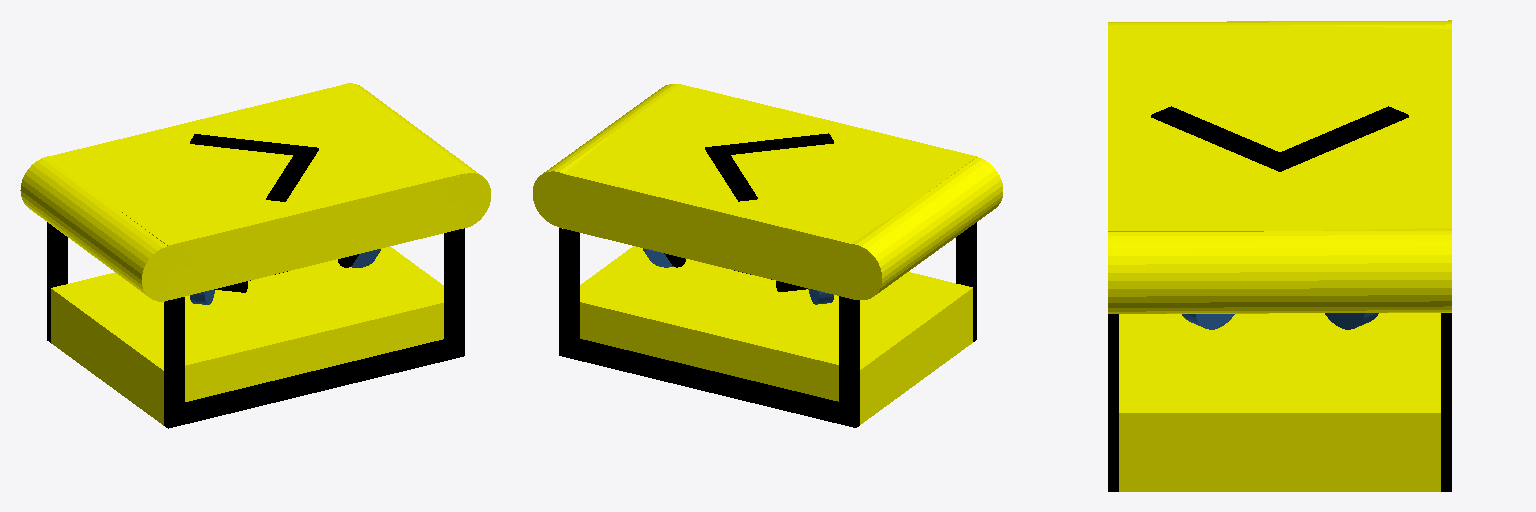
--- Render facts (derived) ---
3 views of the same robot in one strip: view 1: azimuth 30°, elevation 25°; view 2: azimuth 150°, elevation 25°; view 3: azimuth 270°, elevation 25° (orthographic).
Model bravo_toy_saab with 32 links and 31 joints (1 revolute, 30 fixed), rooted at new_base, posed all joints at 0.
Visible links, largest first — view 1: vehicle_base_link, bottom_body_link, rear_bumper, R_bar, front_bumper, B_R_bar, F_R_bar, B_L_bar, l_arrow, r_arrow; view 2: vehicle_base_link, bottom_body_link, rear_bumper, L_bar, front_bumper, F_L_bar, B_L_bar, B_R_bar, r_arrow, l_arrow; view 3: vehicle_base_link, bottom_body_link, front_bumper, l_arrow, r_arrow, F_L_bar, F_R_bar, rear_bumper, pf_fan, sf_fan.
Link boxes in pixels (x1,y1,x2,y2): vehicle_base_link: (53,86,464,299); bottom_body_link: (51,247,443,425); rear_bumper: (20,156,193,301); R_bar: (164,338,464,427); front_bumper: (340,83,490,227); B_R_bar: (164,297,184,428); F_R_bar: (444,228,464,359); B_L_bar: (47,222,67,324); l_arrow: (190,134,318,154); r_arrow: (266,149,318,201); vehicle_base_link: (559,84,976,299); bottom_body_link: (580,246,972,424); rear_bumper: (830,157,1002,299); L_bar: (562,339,859,427); front_bumper: (533,84,678,227); F_L_bar: (559,228,579,359); B_L_bar: (839,296,859,426); B_R_bar: (956,222,976,323); r_arrow: (712,133,833,154); l_arrow: (705,146,757,201); vehicle_base_link: (1108,25,1451,231); bottom_body_link: (1119,313,1440,491); front_bumper: (1108,228,1451,313); l_arrow: (1261,106,1408,171); r_arrow: (1151,106,1297,171); F_L_bar: (1441,313,1451,491); F_R_bar: (1108,314,1118,491); rear_bumper: (1108,20,1451,28); pf_fan: (1325,313,1378,329); sf_fan: (1182,314,1234,329).
Bounding box of the posed robot: 1 × 0.6007 × 0.505 m (x, y, z).
Geometry: only primitive shapes (box / cylinder / sphere) drawn; not drawn: 15 mesh visuals (reference in a form the renderer does not follow).

The robot description file, URDF, robot "bravo_toy_saab":
<?xml version="1.0" encoding="utf-8"?>
<!-- =================================================================================== -->
<!-- |    This document was autogenerated by xacro from test_reach5mini.urdf.xacro     | -->
<!-- |    EDITING THIS FILE BY HAND IS NOT RECOMMENDED                                 | -->
<!-- |    Unless you're Marcus Rosette or Hannah Kolano or Scott Chow  -->
<!-- =================================================================================== -->
<!-- when doing STL -> OBJ conversion, use this to keep origins: https://blender.stackexchange.com/questions/26451/how-to-move-a-complex-object-to-the-origin-without-destroying-it -->
<robot name="bravo_toy_saab">

  <link name="new_base"/>

  <joint name="planar_world" type="revolute">
    <parent link="new_base"/>
    <child link="vehicle_base_link"/>
    <axis xyz=" 0. 1. 0."/>
    <origin rpy="0 0 0" xyz="0 0 0"/>
  </joint>


  <!-- ======================================= -->
  <!-- - - - - - - - MATERIALS - - - - - - - - -->
  <!-- ======================================= -->
    <material name="bravo_black">
      <color rgba="0.3 0.3 0.3 1. "/>
    </material>
    <material name="bravo_finger_jaws_black">
      <color rgba="0.3 0.3 0.3 1. "/>
    </material>
    <material name="green_v">
      <color rgba="0.5 0.9 0.3 1"/>
    </material>
    <material name="black">
      <color rgba="0 0 0 1"/>
    </material>
    <material name="black_v">
      <color rgba="0 0 0 1"/>
    </material>
    <material name="blue_v">
      <color rgba="0.2 0.4 0.6 1"/>
    </material>
    <material name="orange_v">
      <color rgba="1 .4 0 1"/>
    </material>
    <material name="grey_v">
      <color rgba=".3 .3 .3 1"/>
    </material>
    <material name="red_v">
      <color rgba="1 0 0 1"/>
    </material>
    <material name="yellow_v">
      <color rgba="1 1 0 1"/>
    </material>


  <!-- ======================================= -->
  <!--             VEHICLE LINKS               -->
  <!-- ======================================= -->
  <link name="vehicle_base_link">
    <visual>
      <geometry>
        <box size="0.85 0.6 0.15"/>
      </geometry>
      <material name="yellow_v"/>
    </visual>
    <inertial>
      <mass value="30"/> 
      <origin xyz="0.0 0.0 -0.06"/>
      <inertia ixx="6.31" ixy="0.0" ixz="0.22" 
      iyy="10.15" iyz="0.0" 
      izz="3.93"/>
    </inertial>
  </link>

  <link name="bottom_body_link">
    <visual>
      <geometry>
        <box size="0.85 0.56 0.15"/>
      </geometry>
      <material name="yellow_v"/>
    </visual>
    <inertial>
      <mass value="30"/> 
      <origin xyz="0.0 0.0 -0.06"/>
      <inertia ixx="6.31" ixy="0.0" ixz="0.22" 
      iyy="10.15" iyz="0.0" 
      izz="3.93"/>
    </inertial>
  </link>
  <joint name="bottom_body_joint" type="fixed">
    <parent link="vehicle_base_link"/>
    <child link="bottom_body_link"/>
    <origin rpy="0 0 0" xyz="0 0 -.35"/>
  </joint>


<!-- IF YOU EVER ADD MORE LINKS, MAKE SURE TO CHANGE THE BUOYANCY FRAME VECTOR FOR THE ARM BASE FRAME!!! -->

<!-- ======= Bottom Frame ======= -->
  <link name="F_R_bar">
    <visual>
      <geometry>
        <box size = "0.35 0.02 0.05"/>
      </geometry>
      <material name="black_v"/>
    </visual>
  </link>
    <joint name="FRBarJoint" type="fixed">
      <parent link="vehicle_base_link"/>
      <child link="F_R_bar"/>
      <origin rpy="0 1.57075 0" xyz="0.4 -.29 -.25"/>
    </joint>
  <link name="F_L_bar">
    <visual>
      <geometry>
        <box size = "0.35 0.02 0.05"/>
      </geometry>
      <material name="black_v"/>
    </visual>
  </link>
    <joint name="FLBarJoint" type="fixed">
      <parent link="vehicle_base_link"/>
      <child link="F_L_bar"/>
      <origin rpy="0 1.57075 0" xyz="0.4 .29 -.25"/>
    </joint>
  <link name="B_L_bar">
      <visual>
        <geometry>
          <box size = "0.35 0.02 0.05"/>
        </geometry>
        <material name="black_v"/>
      </visual>
  </link>
    <joint name="BLBarJoint" type="fixed">
      <parent link="vehicle_base_link"/>
      <child link="B_L_bar"/>
      <origin rpy="0 1.57075 0" xyz="-0.4 .29 -.25"/>
    </joint>
  <link name="B_R_bar">
    <visual>
      <geometry>
        <box size = "0.35 0.02 0.05"/>
      </geometry>
      <material name="black_v"/>
    </visual>
  </link>
    <joint name="BRBarJoint" type="fixed">
      <parent link="vehicle_base_link"/>
      <child link="B_R_bar"/>
      <origin rpy="0 1.57075 0" xyz="-0.4 -.29 -.25"/>
    </joint>
  <link name="R_bar">
    <visual>
      <geometry>
        <box size = "0.85 0.02 0.05"/>
      </geometry>
      <material name="black_v"/>
    </visual>
  </link>
    <joint name="RBarJoint" type="fixed">
      <parent link="vehicle_base_link"/>
      <child link="R_bar"/>
      <origin rpy="0 0 0" xyz="0 -.29 -.4"/>
    </joint>
  <link name="L_bar">
    <visual>
      <geometry>
        <box size = "0.85 0.02 0.05"/>
      </geometry>
      <material name="black_v"/>
    </visual>
  </link>
    <joint name="LBarJoint" type="fixed">
      <parent link="vehicle_base_link"/>
      <child link="L_bar"/>
      <origin rpy="0 0 0" xyz="0 .29 -.4"/>
    </joint>

<!-- ======= Front/Back Bumpers ======= -->
  <link name="front_bumper">
    <visual>
      <geometry>
        <cylinder length="0.6" radius="0.075"/>
      </geometry>
      <material name="yellow_v"/>
     </visual>
  </link>
    <joint name="fbump_link" type="fixed">
      <parent link="vehicle_base_link"/>
      <child link="front_bumper"/>
      <origin rpy="1.57579632679 0 0" xyz="0.425 0 0"/>
    </joint>
  <link name="rear_bumper">
      <visual>
        <geometry>
          <cylinder length="0.6" radius="0.075"/>
        </geometry>
        <material name="yellow_v"/>
      </visual>
  </link>
    <joint name="rbump_link" type="fixed">
      <parent link="vehicle_base_link"/>
      <child link="rear_bumper"/>
      <origin rpy="1.57579632679 0 0" xyz="-0.425 0 0"/>
    </joint>

<!-- ======= Front Arrow ======= -->
  <link name="l_arrow">
    <visual>
      <geometry>
        <box size="0.05 0.318 0.01"/>
      </geometry>
      <material name="black_v"/>
    </visual>
  </link>
    <joint name="l_arrow_link" type="fixed">
      <parent link="vehicle_base_link"/>
      <child link="l_arrow"/>
      <origin rpy="0 0 0.787898163397" xyz="0.05 0.095 0.075"/>
    </joint>
  <link name="r_arrow">
    <visual>
      <geometry>
        <box size="0.05 0.318 0.01"/>
      </geometry>
      <material name="black_v"/>
    </visual>
  </link>
    <joint name="r_arrow_link" type="fixed">
      <parent link="vehicle_base_link"/>
      <child link="r_arrow"/>
      <origin rpy="0 0 -0.787898163397" xyz="0.05 -0.095 0.075"/>
    </joint>

<!-- ======= Thrusters ======= -->
  <link name="sf_fan">
    <visual>
      <geometry>
        <cylinder length="0.04" radius="0.06"/>
      </geometry>
      <material name="blue_v"/>
    </visual>
  </link>
    <joint name="base_to_sf_fan" type="fixed">
      <parent link="vehicle_base_link"/>
      <child link="sf_fan"/>
      <origin rpy="0 1.57579632679 0.785" xyz="0.22 -0.12 -0.14"/>
    </joint>
  <link name="sf_thruster">
    <visual>
      <geometry>
        <cylinder length="0.1" radius="0.02"/>
      </geometry>
      <material name="black_v"/>
    </visual>
  </link>
    <joint name="sf_fan_thruster_joint" type="fixed">
      <parent link="sf_fan"/>
      <child link="sf_thruster"/>
      <origin xyz="0 0 -0.06"/>
    </joint>
  <link name="pf_fan">
    <visual>
      <geometry>
        <cylinder length="0.04" radius="0.06"/>
      </geometry>
      <material name="blue_v"/>
    </visual>
  </link>
    <joint name="base_to_pf_fan" type="fixed">
      <parent link="vehicle_base_link"/>
      <child link="pf_fan"/>
      <origin rpy="0 1.57579632679 -0.785" xyz="0.22 0.12 -0.14"/>
    </joint>
  <link name="pf_thruster">
    <visual>
      <geometry>
        <cylinder length="0.1" radius="0.02"/>
      </geometry>
      <material name="black_v"/>
    </visual>
  </link>
    <joint name="pf_fan_thruster_joint" type="fixed">
      <parent link="pf_fan"/>
      <child link="pf_thruster"/>
      <origin xyz="0 0 -0.06"/>
    </joint>
  <link name="sa_fan">
    <visual>
      <geometry>
        <cylinder length="0.04" radius="0.06"/>
      </geometry>
      <material name="blue_v"/>
    </visual>
  </link>
    <joint name="base_to_sa_fan" type="fixed">
      <parent link="vehicle_base_link"/>
      <child link="sa_fan"/>
      <origin rpy="0 -1.57579632679 -0.785" xyz="-0.22 -0.12 -0.14"/>
    </joint>
  <link name="sa_thruster">
    <visual>
      <geometry>
        <cylinder length="0.1" radius="0.02"/>
      </geometry>
      <material name="black_v"/>
    </visual>
  </link>
    <joint name="sa_fan_thruster_joint" type="fixed">
      <parent link="sa_fan"/>
      <child link="sa_thruster"/>
      <origin xyz="0 0 -0.06"/>
    </joint>
  <link name="pa_fan">
    <visual>
      <geometry>
        <cylinder length="0.04" radius="0.06"/>
      </geometry>
      <material name="blue_v"/>
    </visual>
  </link>
    <joint name="base_to_pa_fan" type="fixed">
      <parent link="vehicle_base_link"/>
      <child link="pa_fan"/>
      <origin rpy="0 -1.57579632679 0.785" xyz="-0.22 0.12 -0.14"/>
    </joint>
  <link name="pa_thruster">
    <visual>
      <geometry>
        <cylinder length="0.1" radius="0.02"/>
      </geometry>
      <material name="black_v"/>
    </visual>
  </link>
    <joint name="pa_fan_thruster_joint" type="fixed">
      <parent link="pa_fan"/>
      <child link="pa_thruster"/>
      <origin xyz="0 0 -0.06"/>
    </joint>

  <link name="seabotix_bottle">
    <visual>
      <geometry>
        <cylinder length="0.26" radius="0.05"/>
      </geometry>
      <material name="black_v"/>
    </visual>
  </link>
    <joint name="sbottle_link" type="fixed">
      <parent link="vehicle_base_link"/>
      <child link="seabotix_bottle"/>
      <origin rpy="0 1.57579632679 0" xyz="-0.05 0 -0.18"/>
    </joint>


<!-- ======================================= -->
<!--               BRAVO LINKS               -->
<!-- ======================================= -->
  <joint name="bravo_joint" type="fixed">
    <origin rpy="1.57079 0 0" xyz=".425 0 -.39"/>    <!-- Old rpy="0 0 0" xyz=".325 0 -.09" ________________________________________________________________-->
    <parent link="vehicle_base_link"/>
    <child link="bravo_base_link"/>
  </joint>

  <link name="bravo_base_link">
    <inertial>
      <!-- <mass value="1.25"/> --> <!-- weight in air -->
      <mass value="0.53216"/> <!-- buoyancy balanced weight. calc from buoyancy_setup.jl -->
      <origin xyz="-0.075 -0.006 -0.003"/>
      <inertia ixx="0.002108" ixy="0.00018199999999999998" ixz="-1.4999999999999999e-05" iyy="0.0025729999999999998" iyz="-2.1e-05" izz="0.003483"/>
    </inertial>
    <visual>
      <geometry>
        <mesh filename="[local-path]/OneDrive/Documents/GitHub/onr_compliance_julia/meshes/RS2-1019_base.obj"/>
      </geometry>
      <material name="bravo_black"/>
      <origin rpy="0.0 -0.0 0.0" xyz="0.0 0.0 0.0"/>
    </visual>
    <collision>
      <geometry>
        <box size="0.0725 0.1112 0.083 "/>
      </geometry>
      <origin rpy="0.0 0.0 0.0" xyz="0.03625 0.0 0.0415"/>
    </collision>
    <collision>
      <geometry>
        <box size="0.05 0.08 0.06"/>
      </geometry>
      <origin rpy="0.0 0.0 0.0" xyz="0.025 -0.04556 0.03"/>
    </collision>
    <collision>
      <geometry>
        <cylinder length="0.083" radius="0.046"/>
      </geometry>
      <origin rpy="0.0 0.0 0.0" xyz="0.0665 0.0 0.0415"/>
    </collision>
  </link>

  <!-- Changed bravo_axis_g to fixed -->
  <joint name="bravo_axis_g" type="fixed">  
    <dynamics damping="10.0" friction="0.0"/>
    <limit effort="500.0" lower="0.0" upper="6.2" velocity="3.0"/>
    <parent link="bravo_base_link"/>
    <child link="bravo_1019_end_link"/>
    <axis xyz=" 0. -1. 0."/>
    <origin rpy="0.0 0.0 3.14159" xyz="0.0665 0.08 0.0"/> <!-- Old: rpy="0.0 0.0 3.14159" xyz="0.0665 0.0 0.08"/>___________________________________________________-->
  </joint>

  <link name="bravo_1019_end_link">
    <inertial>
      <!-- <mass value="1.55"/> --> <!-- weight in air -->
      <mass value="0.95180"/> <!-- buoyancy balanced weight. calc from buoyancy_setup.jl -->
      <inertia ixx="0.011441999999999999" ixy="-0.000484" ixz="0.003405" iyy="0.01298" iyz="-0.0012649999999999998" izz="0.003202"/>
      <origin xyz="0.005 -0.001 0.016"/>
    </inertial>
    <visual>
      <geometry>
        <mesh filename="[local-path]/OneDrive/Documents/GitHub/onr_compliance_julia/meshes/RS2-1019_end.obj"/>
      </geometry>
      <material name="bravo_black"/>
      <origin rpy="0.0 -0.0 0.0" xyz="0.0 0.0 0.0"/>
    </visual>
    <visual>
      <geometry>
        <mesh filename="[local-path]/OneDrive/Documents/GitHub/onr_compliance_julia/meshes/RS2-1013_base.obj"/>
      </geometry>
      <material name="bravo_black"/>
      <origin rpy="0.0 -0.0 3.1415" xyz="0.0 0.0 0.0"/>    <!-- Old rpy="0 0 0" ________________________________________________________________-->
    </visual>
    <collision>
      <geometry>
        <mesh filename="[local-path]/OneDrive/Documents/GitHub/onr_compliance_julia/meshes/RS2-1019_end.obj"/>
      </geometry>
      <origin rpy="0.0 -0.0 0.0" xyz="0.0 0.0 0.0"/>
    </collision>
    <collision>
      <geometry>
        <cylinder length="0.03" radius="0.046"/>
      </geometry>
      <origin rpy="0.0 -0.0 0.0" xyz="0.0 0.0 0.015"/>
    </collision>
    <collision>
      <geometry>
        <cylinder length="0.1" radius="0.046"/>
      </geometry>
      <origin rpy="1.5707 -0.0 0.0" xyz="0.048 0.0 0.0642"/>
    </collision>
  </link>

  <joint name="bravo_axis_f" type="fixed"> <!-- used to be revolute-->
    <dynamics damping="10.0" friction="0.0"/>
    <limit effort="500.0" lower="0.0" upper="3.14" velocity="3.0"/>
    <parent link="bravo_1019_end_link"/>
    <child link="bravo_1013_joint_link"/>
    <axis xyz=" 0. 0. -1."/>
    <origin rpy="0.0 -0.0 -3.14159" xyz="-0.046 -0.0642 0"/> <!-- Old: rpy="0.0 -0.0 0.0" xyz="0.046 0.0 0.0642"/>______________________________________________________________________________-->
  </joint>

  <link name="bravo_1013_joint_link">
    <inertial>
      <!-- <mass value="1.14"/> --> <!-- weight in air -->
      <mass value="0.67141"/> <!-- buoyancy balanced weight. calc from buoyancy_setup.jl -->
      <origin xyz="0.022 -0.029 0.001"/>
      <inertia ixx="0.0032129999999999997" ixy="-0.001548" ixz="-3.1e-05" iyy="0.002327" iyz="6e-06" izz="0.00434"/>
    </inertial>
    <visual>
      <geometry>
        <mesh filename="[local-path]/OneDrive/Documents/GitHub/onr_compliance_julia/meshes/RS2-1013_end.obj"/>
      </geometry>
      <material name="bravo_black"/>
      <origin rpy="0.0 -0.0 0.0" xyz="0.0 0.0 0.0"/>
    </visual>
    <visual>
      <geometry>
        <mesh filename="[local-path]/OneDrive/Documents/GitHub/onr_compliance_julia/meshes/RS2-1026_0_base.obj"/>
      </geometry>
      <material name="bravo_black"/>
      <origin rpy="0.0 -0.0 3.14159" xyz="0.04600000000128156 -0.23255 0"/> <!--Old: rpy="3.14159 -0.0 3.14159" xyz="0.04600000000128156 4.829533423884964e-07 -0.2325499999993592"/>-->
    </visual>
    <visual>
      <geometry>
        <mesh filename="[local-path]/OneDrive/Documents/GitHub/onr_compliance_julia/meshes/RS2-1030.obj"/>
      </geometry>
      <material name="bravo_black"/>
      <origin rpy="3.14159 -0.0 0" xyz="0.046 -0.05055 0"/> <!--Old: rpy="3.14159 -0.0 3.14159" xyz="0.046 0.0 -0.05055"/>__________________________________________________________-->
    </visual>
    <collision>
      <geometry>
        <cylinder length="0.03" radius="0.046"/>
      </geometry>
      <origin rpy="0.0 0.0 0.0" xyz="0.046 0.0 -0.03555"/>
    </collision>
    <collision>
      <geometry>
        <cylinder length="0.03" radius="0.0408"/>
      </geometry>
      <origin rpy="3.14159 -0.0 3.14159" xyz="0.04600000000138718 5.227571892886473e-07 -0.24754999999930644"/>
    </collision>
    <collision>
      <geometry>
        <cylinder length="0.0816" radius="0.0408"/>
      </geometry>
      <origin rpy="-1.5708953071795866 -0.0 3.14159" xyz="0.005200000001832204 7.445972960125356e-07 -0.29034999999915573"/>
    </collision>
    <collision>
      <geometry>
        <cylinder length="0.03033333" radius="0.046"/>
      </geometry>
      <origin rpy="3.14159 -0.0 3.14159" xyz="0.046000000000106796 4.0246094175109416e-08 -0.0657166599999466"/>
    </collision>
    <collision>
      <geometry>
        <cylinder length="0.03033333" radius="0.045"/>
      </geometry>
      <origin rpy="3.14159 -0.0 3.14159" xyz="0.04600000000032039 1.207383355971241e-07 -0.0960499999998398"/>
    </collision>
    <collision>
      <geometry>
        <cylinder length="0.03033333" radius="0.044"/>
      </geometry>
      <origin rpy="3.14159 -0.0 3.14159" xyz="0.04600000000053398 2.0123055844401027e-07 -0.126383332999733"/>
    </collision>
    <collision>
      <geometry>
        <cylinder length="0.03033333" radius="0.043"/>
      </geometry>
      <origin rpy="3.14159 -0.0 3.14159" xyz="0.046000000000747575 2.817227828830503e-07 -0.15671666659962621"/>
    </collision>
    <collision>
      <geometry>
        <cylinder length="0.03033333" radius="0.042"/>
      </geometry>
      <origin rpy="3.14159 -0.0 3.14159" xyz="0.04600000000096117 3.6221500679137236e-07 -0.18704999999951943"/>
    </collision>
    <collision>
      <geometry>
        <cylinder length="0.03033333" radius="0.041"/>
      </geometry>
      <origin rpy="3.14159 -0.0 3.14159" xyz="0.04600000000117476 4.427071420697953e-07 -0.21738329999941264"/>
    </collision>
  </link>

  <joint name="bravo_axis_e" type="fixed"> <!-- used to be revolute-->
    <dynamics damping="10.0" friction="0.0"/>
    <limit effort="500.0" lower="0.0" upper="3.14" velocity="3.0"/>
    <parent link="bravo_1013_joint_link"/>
    <child link="bravo_1026_0_joint_link"/>
    <axis xyz=" 0. 0. 1."/>
    <origin rpy="0 0 0" xyz="0.0040000000018364235 -0.29034 0"/> <!-- Old: rpy="3.14159 -0.0 3.14159" xyz="0.0040000000018364235 7.477816037645589e-07 -0.29034999999915573"/>_____________________________________-->
  </joint>

  <link name="bravo_1026_0_joint_link">
    <inertial>
      <origin rpy="0.0 -0.0 0.0" xyz="0.018 0.006 -0.117"/>  <!-- Old: rpy="0.0 -0.0 0.0" xyz="0.017 -0.026 -0.002"_____________________________________-->
      <!-- <mass value="1.14"/> --> <!-- weight in air -->
      <mass value="0.63153"/> <!-- buoyancy balanced weight. calc from buoyancy_setup.jl -->
      <inertia ixx="0.021231999999999997" ixy="0.00033" ixz="-0.003738" iyy="0.022251999999999997" iyz="-0.0012779999999999998" izz="0.002054"/>
    </inertial>
    <visual>
      <geometry>
        <mesh filename="[local-path]/OneDrive/Documents/GitHub/onr_compliance_julia/meshes/RS2-1026_0_end.obj"/>
      </geometry>
      <material name="bravo_black"/>
      <origin rpy="0.0 -0.0 0.0" xyz="0.0 0.0 0.0"/>
    </visual>
    <collision>
      <geometry>
        <cylinder length="0.08" radius="0.0408"/>
      </geometry>
      <origin rpy="0.0 0.0 0.0" xyz="0.0408 0.0 -0.05385"/>
    </collision>
  </link>

  <!-- Changed bravo_axis_d to fixed -->
  <joint name="bravo_axis_d" type="fixed">
    <dynamics damping="10.0" friction="0.0"/>
    <limit effort="500.0" lower="0.0" upper="6.2" velocity="3.0"/>
    <parent link="bravo_1026_0_joint_link"/>
    <child link="bravo_1026_1_joint_link"/>
    <axis xyz=" 0.  0. -1."/>
    <origin rpy="3.14159 0.0 0.0" xyz="0.0408 -0.09434999999999824 0.001"/> <!-- Old: rpy="3.14159 -0.0 0.0" xyz="0.0408 -1.326794896676365e-09 -0.09434999999999824"/>____________________SEEMS TO BE PART OF THE PROBLEM OF MISSALIGNMENT__-->
  </joint>

  <link name="bravo_1026_1_joint_link">
    <inertial>
      <!-- <mass value="1.03"/> --> <!-- weight in air -->
      <mass value="0.60129"/> <!-- buoyancy balanced weight. calc from buoyancy_setup.jl -->
      <origin xyz="0.020 -0.024 0.001"/>
      <inertia ixx="0.00243" ixy="-0.001144" ixz="-3.9999999999999996e-05" iyy="0.002026" iyz="1.1e-05" izz="0.00333"/>
    </inertial>
    <visual>
      <geometry>
        <mesh filename="[local-path]/OneDrive/Documents/GitHub/onr_compliance_julia/meshes/RS2-1026_1_end.obj"/>
      </geometry>
      <material name="bravo_black"/>
      <origin rpy="0.0 3.14159 0" xyz="0.0 0.0 0.0056"/> <!-- Old: rpy="0.0 0.0 3.14159" xyz="0.0 0.0 0.0"/>_________________________________________________________________-->
    </visual>
    <visual>
      <geometry>
        <mesh filename="[local-path]/OneDrive/Documents/GitHub/onr_compliance_julia/meshes/RS2-1023_0_base.obj"/>
      </geometry>
      <material name="bravo_black"/>
      <origin rpy="0.0 3.14159 0.0" xyz="0.0 0.0 0.0056"/> <!-- Old: rpy="0.0 -0.0 3.14159" xyz="0.0 0.0 0.0056"/>___________________________________________________________-->
    </visual>
    <collision>
      <geometry>
        <cylinder length="0.0056" radius="0.0408"/>
      </geometry>
      <origin rpy="0.0 0.0 3.14159" xyz="0.0 0.0 0.0028"/>
    </collision>
    <collision>
      <geometry>
        <cylinder length="0.03" radius="0.0408"/>
      </geometry>
      <origin rpy="0.0 -0.0 3.14159" xyz="0.0 0.0 0.0206"/>
    </collision>
    <collision>
      <geometry>
        <cylinder length="0.0816" radius="0.0408"/>
      </geometry>
      <origin rpy="1.5707 -0.0 3.14159" xyz="-0.040799999999856354 1.082664635687914e-07 0.0634"/>
    </collision>
  </link>

  <joint name="bravo_axis_c" type="fixed"> <!-- used to be revolute-->
    <dynamics damping="10.0" friction="0.0"/>
    <limit effort="500.0" lower="0.0" upper="3.2" velocity="3.0"/>
    <parent link="bravo_1026_1_joint_link"/>
    <child link="bravo_1023_0_joint_link"/>
    <axis xyz=" 0. 0. -1."/>
    <origin rpy="0.0 3.14159 -1.57" xyz="-0.041999999999852135 0.058 0.005"/> <!-- Old: rpy="0.0 -0.0 3.14159" xyz="-0.041999999999852135 1.1145077132081467e-07 0.0634"/>______________________-->
  </joint>

  <link name="bravo_1023_0_joint_link">
    <inertial>
      <origin rpy="0.0 -0.0 0.0" xyz="0.0 0.003 -0.098"/>  <!-- Old: rpy="0.0 -0.0 0.0" xyz="0.0 0.003 -0.098"/>______________________-->
      <!-- <mass value="0.333"/> --> <!-- This was the original... not sure where it comes from. Is different than bravo manual-->
      <!-- Using mass properties from Bravo KD Properties manual -->
      <mass value="0.04820"/> <!-- buoyancy balanced weight. calc from buoyancy_setup.jl -->
      <inertia ixx="0.003709" ixy="-2e-06" ixz="-4e-06" iyy="0.003734" iyz="0.0" izz="7.9e-05"/>
    </inertial>
    <visual>
      <geometry>
        <mesh filename="[local-path]/OneDrive/Documents/GitHub/onr_compliance_julia/meshes/RS2-1023_0_end.obj"/>
      </geometry>
      <material name="bravo_black"/>
      <origin rpy="0.0 -0.0 0.0" xyz="0.0 0.0 0.0"/>
    </visual>
    <collision>
      <geometry>
        <cylinder length="0.08" radius="0.0408"/>
      </geometry>
      <origin rpy="0.0 0.0 0.0" xyz="0.0408 0.0 -0.05385"/>
    </collision>
  </link>

  <!-- Changed bravo_axis_b to fixed -->
  <joint name="bravo_axis_b" type="fixed">
    <dynamics damping="10.0" friction="0.0"/>
    <limit effort="500.0" lower="0.0" upper="6.2" velocity="3.0"/>
    <parent link="bravo_1023_0_joint_link"/>
    <child link="bravo_1023_1_joint_link"/>
    <axis xyz=" 0.  0. -1."/>
    <origin rpy="3.14159 -0.0 0" xyz="0.0408 -0.09434999999999824 0"/> <!-- Old: rpy="3.14159 -0.0 0.6" xyz="0.0408 -1.326794896676365e-09 -0.09434999999999824"/>____________________________-->
  </joint>

  <link name="bravo_1023_1_joint_link">
    <inertial>
      <origin xyz="0.0 0.003 -0.098"/>
      <mass value="1.04"/>
      <!-- <mass value="1.04"/> --> <!-- weight in air -->
      <mass value="0.56144"/> <!-- buoyancy balanced weight. calc from buoyancy_setup.jl -->
      <inertia ixx="0.022359" ixy="1e-06" ixz="-1.8999999999999998e-05" iyy="0.022362999999999997" iyz="1.4999999999999999e-05" izz="0.000936"/>
    </inertial>
    <visual>
      <geometry>
        <mesh filename="[local-path]/OneDrive/Documents/GitHub/onr_compliance_julia/meshes/RS2-1023_1_end.obj"/>
      </geometry>
      <material name="bravo_black"/>
      <origin rpy="0.0 -0.0 0.0" xyz="0.0 0.0 0.0"/>
    </visual>
    <visual>
      <geometry>
        <mesh filename="[local-path]/OneDrive/Documents/GitHub/onr_compliance_julia/meshes/RS2-1028.obj"/>
      </geometry>
      <material name="bravo_black"/>
      <origin rpy="0.0 -0.0 0.0" xyz="0.0 0.0056 0.0"/> <!-- Old: rpy="0.0 -0.0 0.0" xyz="0.0 0.0 0.0056"/>_______________________________________________________________________-->
    </visual>
    <visual>
      <geometry>
        <mesh filename="[local-path]/OneDrive/Documents/GitHub/onr_compliance_julia/meshes/end_effectors/RS2-257.obj"/>
      </geometry>
      <material name="bravo_finger_jaws_black"/>
      <origin rpy="3.14159 0 1.57" xyz="0.0 0.1256 0"/> <!-- Old: rpy="-1.5707 -1.5706999999997038 0.0" xyz="0.0 0.0 0.1256"/>____________________________________________________-->
    </visual>
    <collision>
      <geometry>
        <cylinder length="0.0056" radius="0.0408"/>
      </geometry>
      <origin rpy="0.0 0.0 0.0" xyz="0.0 0.0 0.0028"/>
    </collision>
    <collision>
      <geometry>
        <cylinder length="0.12" radius="0.0408"/>
      </geometry>
      <origin rpy="0.0 -0.0 0.0" xyz="0.0 0.0 0.06559999999999999"/>
    </collision>
    <collision>
      <geometry>
        <cylinder length="0.02" radius="0.05"/>
      </geometry>
      <origin rpy="-9.632679489654805e-05 -9.631751559834678e-05 -1.5706999907215955" xyz="9.632679474766714e-07 0.0 0.13559999995360572"/>
    </collision>
  </link>

  <!-- <joint name="bravo_axis_a" type="fixed">
    <dynamics damping="10.0" friction="0.0"/>
    <limit effort="1000.0" lower="0.0" upper="0.035" velocity="10.0"/>
    <parent link="bravo_1023_1_joint_link"/>
    <child link="bravo_push_rod"/>
    <axis xyz="0. 0. 1."/>
    <origin rpy="-1.5707 -1.5706999999997038 0.0" xyz="-8.669411487068951e-07 0.008999999958245167 0.12560000008350966"/>
  </joint>

  <link name="bravo_push_rod">
    <inertial>
      <origin rpy="0.0 -0.0 0.0" xyz="0.0 0.0 0.0"/>
      <mass value="0.1"/>
      <inertia ixx="0.0001" ixy="0.0" ixz="0.0" iyy="0.0001" iyz="0.0" izz="0.0001"/>
    </inertial>
  </link> -->

  <joint name="bravo_finger_jaws_rs2_300_joint" type="fixed">
    <!-- Changed joint type to "fixed" to eliminate looping through another dimension -->
    <limit effort="400.0" lower="0.0" upper="1.0" velocity="3.0"/>
    <mimic joint="bravo_axis_a" multiplier="18.0" offset="0.0"/>
    <parent link="bravo_1023_1_joint_link"/>
    <child link="bravo_finger_jaws_rs2_300_link"/>
    <axis xyz=" 0.  0. -1."/>
    <origin rpy="0 3.14159 -1.5707" xyz="0 0.13529682117078565 -0.033"/> <!-- Old: rpy="-1.5707 -1.5706999999997038 0.0" xyz="-0.032999065323888854 -3.178784226673016e-06 0.1353031787392095"/>-->
      <!-- Subtracted 0.265 to the y origin rotation to eliminate finger collision -->
  </joint>

  <joint name="bravo_finger_jaws_rs2_301_joint" type="fixed">
    <!-- Changed joint type to "fixed" to eliminate looping through another dimension -->
    <limit effort="400.0" lower="0.0" upper="1.0" velocity="3.0"/>
    <mimic joint="bravo_finger_jaws_rs2_300_joint" multiplier="1.0" offset="0.0"/>
    <parent link="bravo_1023_1_joint_link"/>
    <child link="bravo_finger_jaws_rs2_301_link"/>
    <axis xyz="0. 0. 1."/>
    <origin rpy="0 3.14159 -1.5707" xyz="0 0.13529682117078565 0.033"/> <!-- Old: rpy="-1.5707 -1.5706999999997038 0.0" xyz="0.03300093406370696 3.178784226673016e-06 0.13529682117078565"/>-->
    <!-- Added 0.265 to the y origin rotation to eliminate finger collision -->
  </joint>

  <link name="bravo_finger_jaws_rs2_300_link">
    <inertial>
      <origin rpy="0.0 -0.0 0.0" xyz="0.05 0.0 0.0"/>
      <!-- <mass value="0.24"/> --> <!-- weight in air -->
      <mass value="0.15524"/> <!-- (divided by two, for each jaw) buoyancy balanced weight. calc from buoyancy_setup.jl -->
      <inertia ixx="0.000244" ixy="-1.2e-05" ixz="0.0" iyy="0.00113" iyz="1e-06" izz="0.001178"/>
    </inertial>
    <visual>
      <geometry>
        <mesh filename="[local-path]/OneDrive/Documents/GitHub/onr_compliance_julia/meshes/end_effectors/RS2-300.obj"/>
      </geometry>
      <material name="bravo_finger_jaws_black"/>
      <origin rpy="0.0 -0.0 0.0" xyz="0.0 0.0 0.0"/>
    </visual>
    <collision>
      <geometry>
        <mesh filename="[local-path]/OneDrive/Documents/GitHub/onr_compliance_julia/meshes/end_effectors/RS2-300.obj"/>
      </geometry>
      <origin rpy="0.0 -0.0 0.0" xyz="0.0 0.0 0.0"/>
    </collision>
  </link>

  <link name="bravo_finger_jaws_rs2_301_link">
    <inertial>
      <origin rpy="0.0 -0.0 0.0" xyz="0.05 0.0 0.0"/>
      <!-- <mass value="0.24"/> --> <!-- weight in air -->
      <mass value="0.15524"/> <!-- (divided by two, for each jaw) buoyancy balanced weight. calc from buoyancy_setup.jl -->
      <inertia ixx="0.000244" ixy="-1.2e-05" ixz="0.0" iyy="0.00113" iyz="1e-06" izz="0.001178"/>
    </inertial>
    <visual>
      <geometry>
        <mesh filename="[local-path]/OneDrive/Documents/GitHub/onr_compliance_julia/meshes/end_effectors/RS2-301.obj"/>
      </geometry>
      <material name="bravo_finger_jaws_black"/>
      <origin rpy="0.0 -0.0 0.0" xyz="0.0 0.0 0.0"/>
    </visual>
    <collision>
      <geometry>
        <mesh filename="[local-path]/OneDrive/Documents/GitHub/onr_compliance_julia/meshes/end_effectors/RS2-301.obj"/>
      </geometry>
      <origin rpy="0.0 -0.0 0.0" xyz="0.0 0.0 0.0"/>
    </collision>
  </link>

  <link name="ee_link"/>

  <joint name="ee_link_joint" type="fixed">
    <parent link="bravo_1023_1_joint_link"/>
    <child link="ee_link"/>
    <origin rpy="0 0 -1.5707" xyz="0 0 0.120"/>
  </joint>

</robot>
